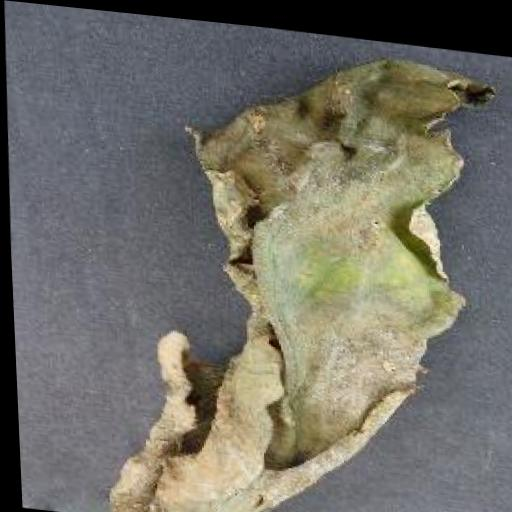Late Blight: (86, 21, 507, 512)
